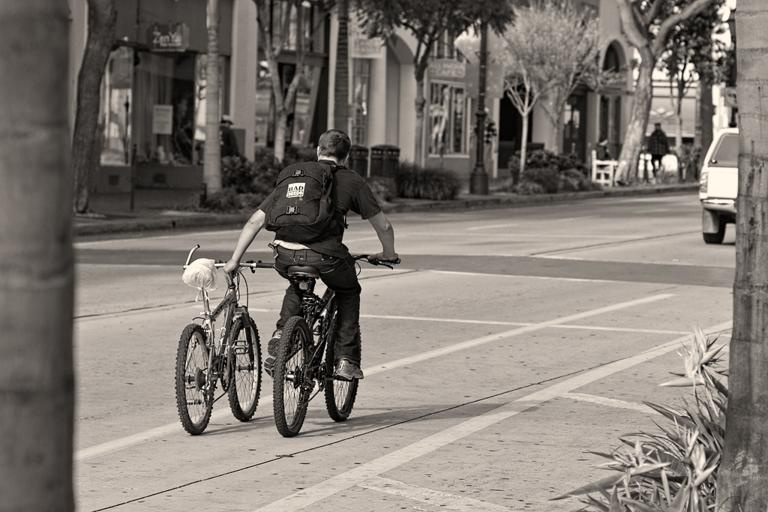non-vehicle: (242, 250, 405, 435), (172, 240, 266, 434)
